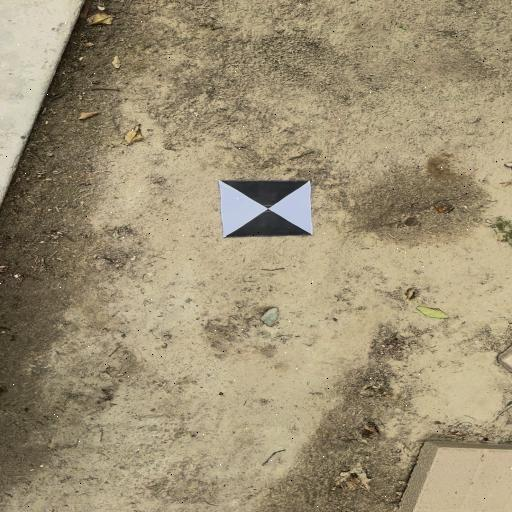target: (220, 180, 312, 236)
